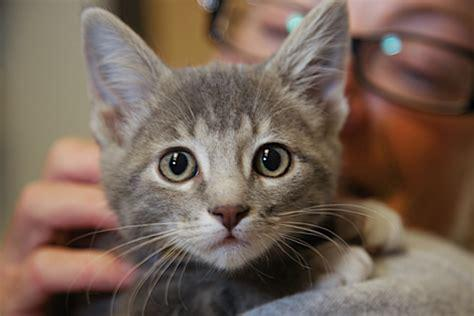cat: (80, 1, 407, 316)
